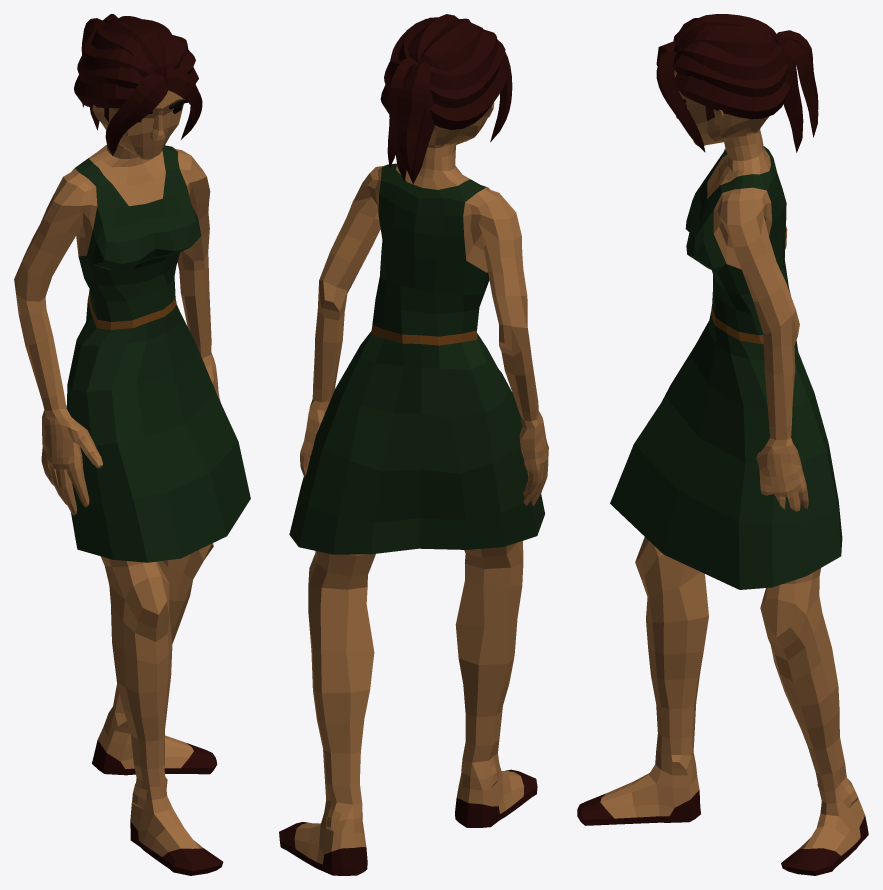
3 renders of one model, left to right at view 1: azimuth 30°, elevation 25°; view 2: azimuth 150°, elevation 25°; view 3: azimuth 270°, elevation 25°, orthographic. The views are drawn at different scales.
Parts seen in each view (by area): view 1: Formal_Legs_static, Formal_Body_static, Formad_Head_static, Formal_Feet_static; view 2: Formal_Legs_static, Formal_Body_static, Formad_Head_static, Formal_Feet_static; view 3: Formal_Legs_static, Formal_Body_static, Formad_Head_static, Formal_Feet_static.
Boxes of the visible parts, bbox=[...] form: Formal_Legs_static: bbox=[66, 313, 250, 768]; Formal_Body_static: bbox=[14, 145, 220, 515]; Formad_Head_static: bbox=[74, 14, 202, 159]; Formal_Feet_static: bbox=[92, 688, 223, 875]; Formal_Legs_static: bbox=[289, 345, 544, 785]; Formal_Body_static: bbox=[300, 163, 548, 506]; Formad_Head_static: bbox=[380, 14, 512, 184]; Formal_Feet_static: bbox=[279, 737, 537, 875]; Formal_Legs_static: bbox=[610, 321, 844, 774]; Formal_Body_static: bbox=[685, 146, 808, 511]; Formad_Head_static: bbox=[656, 14, 818, 160]; Formal_Feet_static: bbox=[577, 733, 868, 875].
Size of the model in its own units: 0.5344 by 1.8 by 0.5933.
